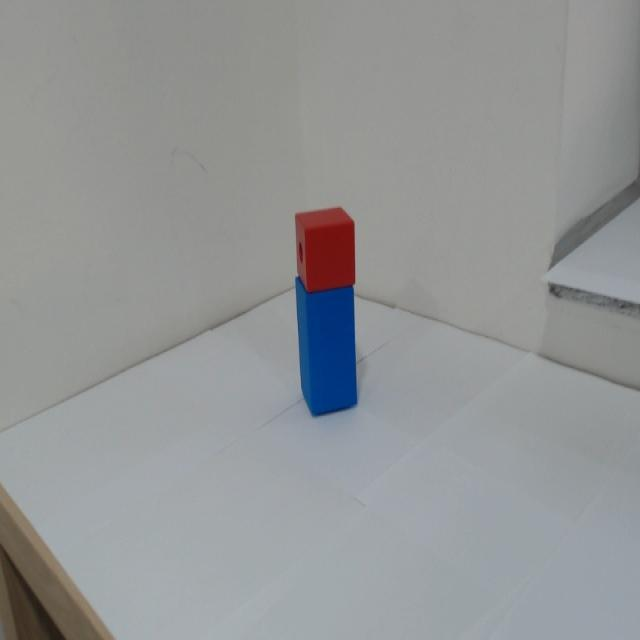cube: (267, 206, 383, 290)
